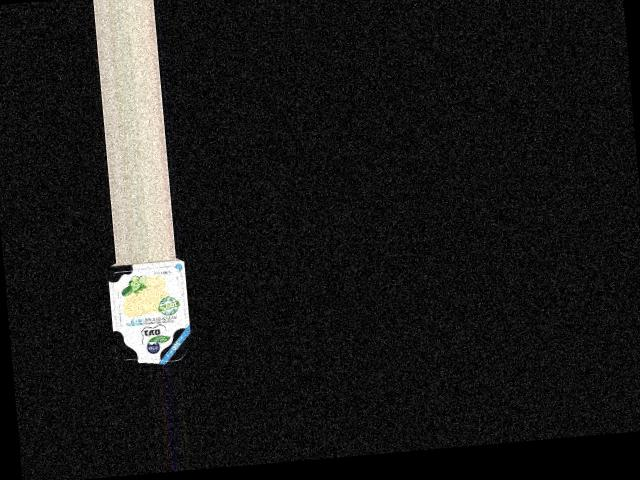cheese: (102, 256, 197, 367)
